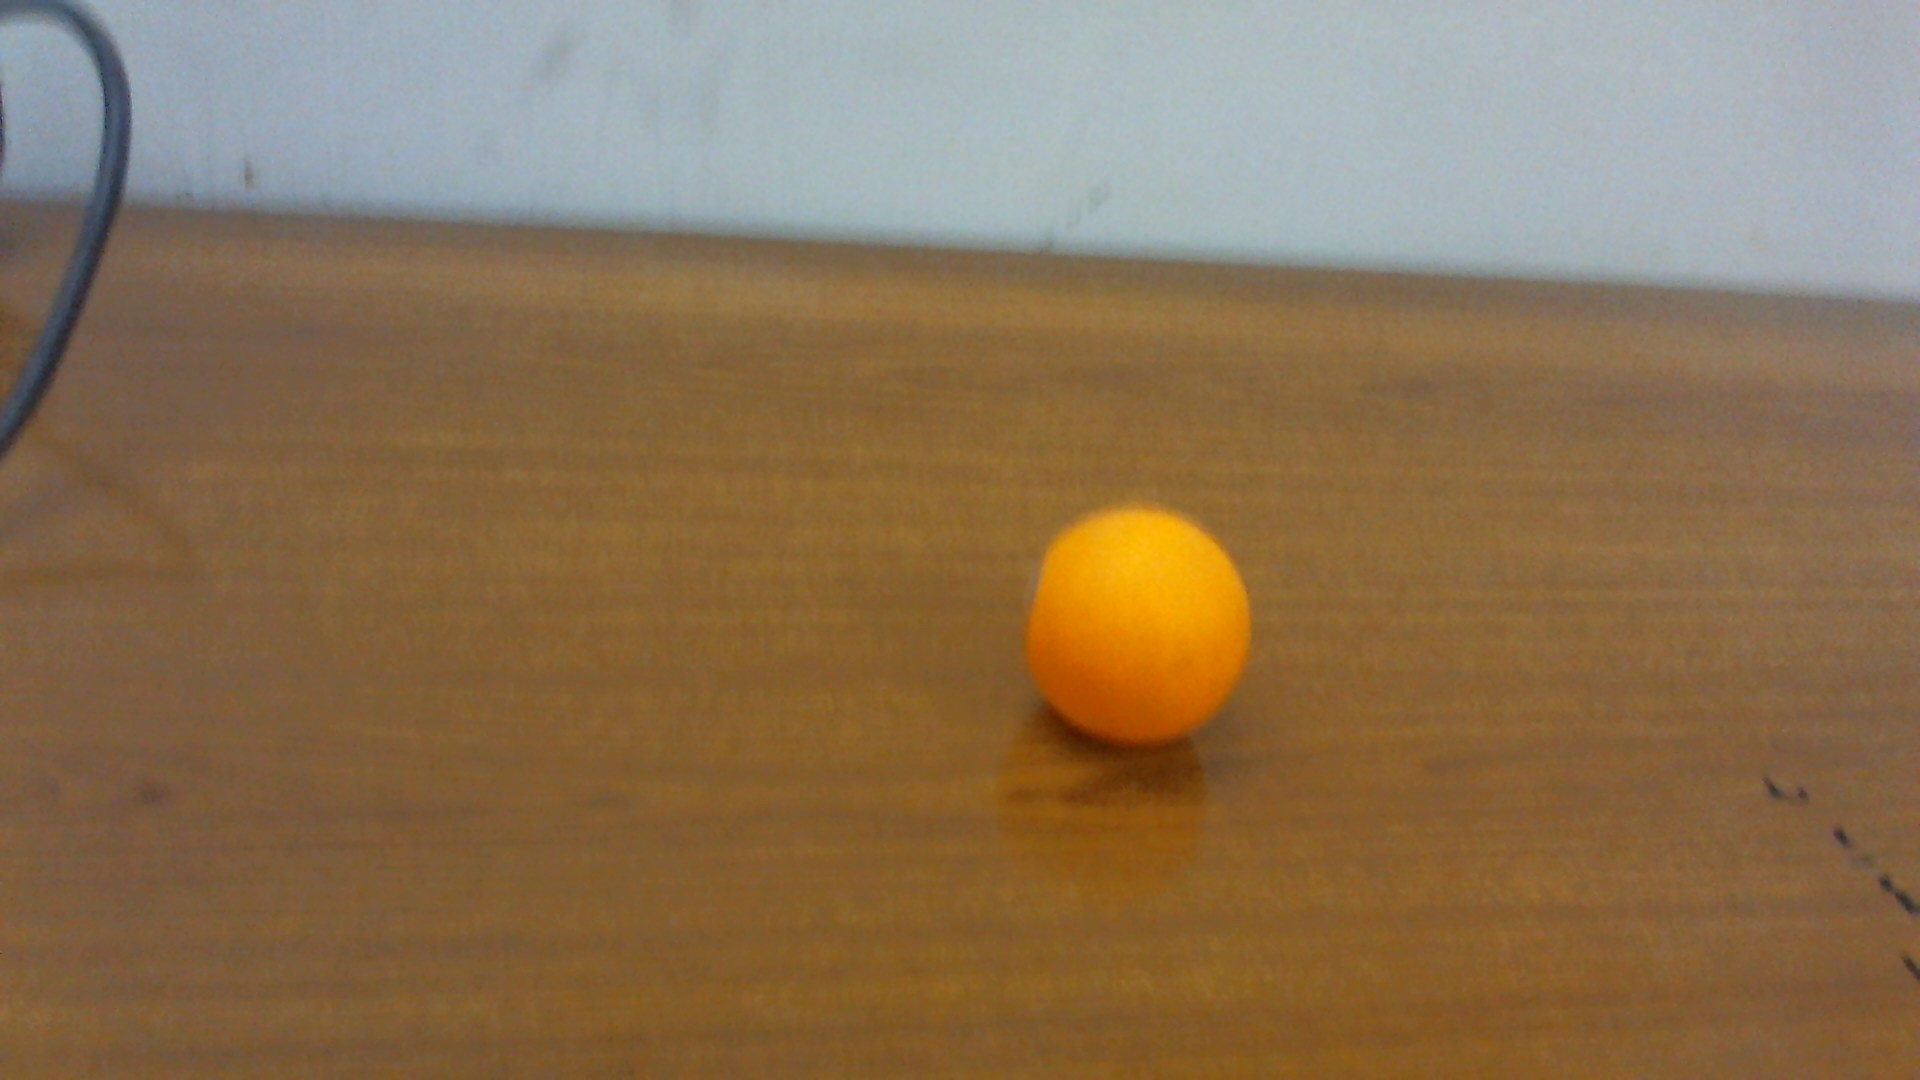ball: (1022, 504, 1254, 752)
